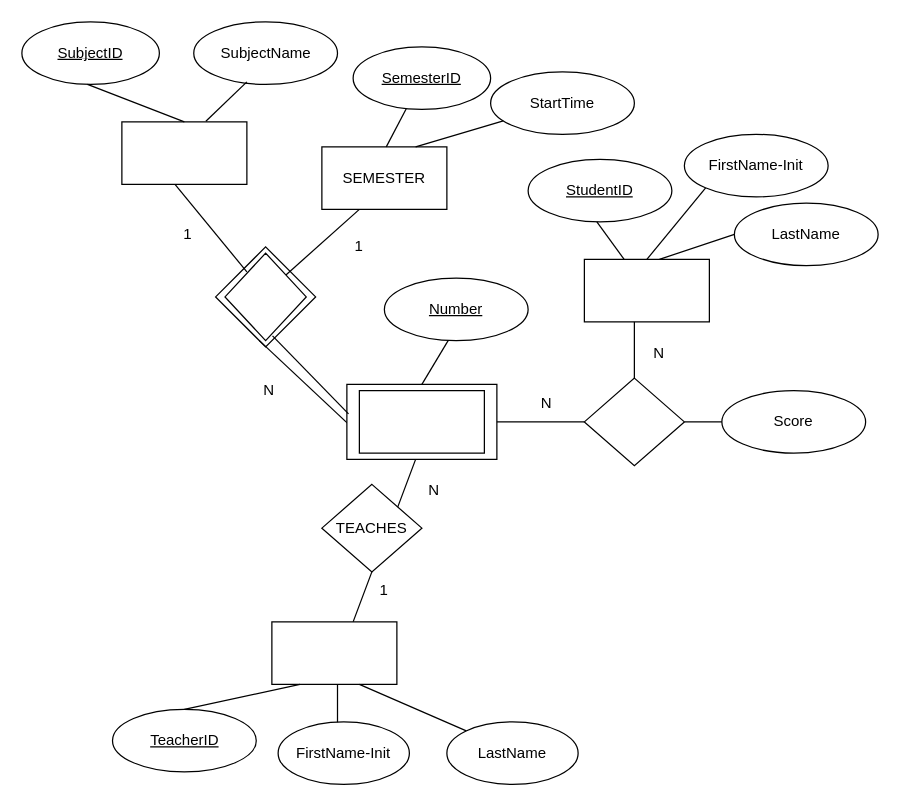
The diagram is 900 pixels wide and 806 high, and some of its shapes have lost their labels. Here are the shapes that lost their labels. From the top down, the centre of each, then its label:
At (184,152): "SUBJECT".
At (265,296): "OPENS".
At (646,290): "STUDENT".
At (421,421): "CLASS".
At (633,421): "STUDIES".
At (334,652): "TEACHER".
